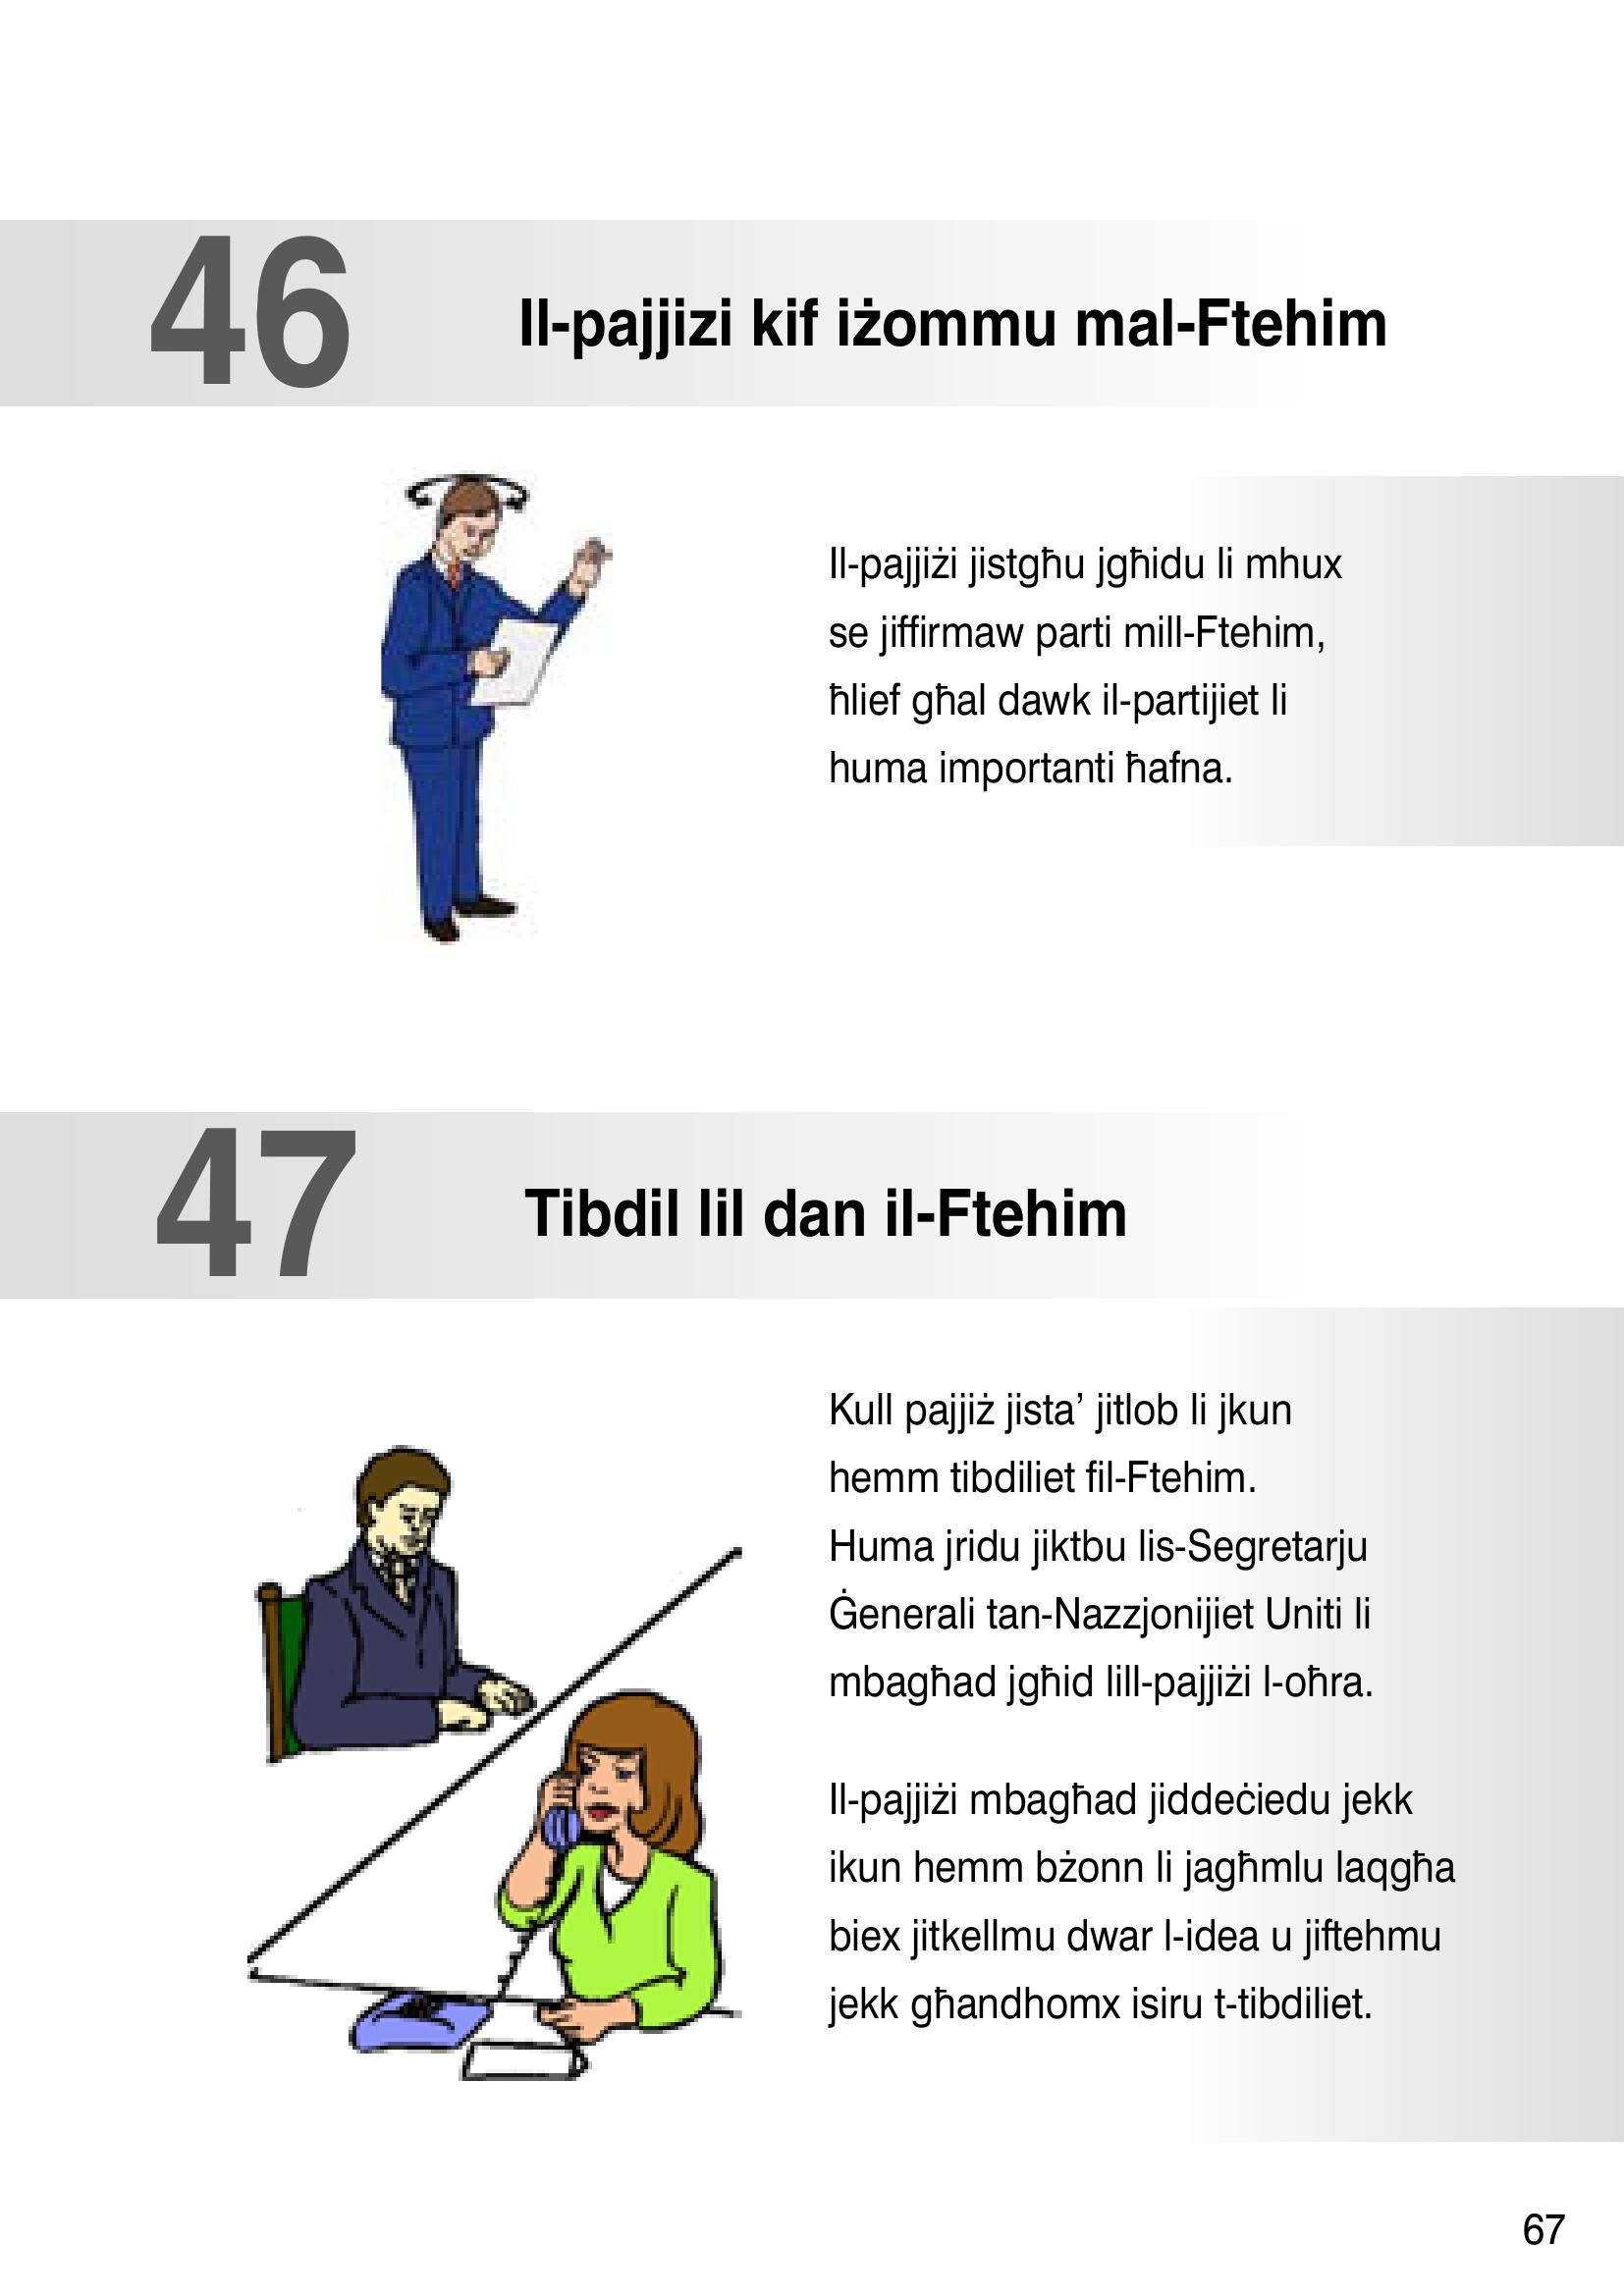text: (801, 1361, 1489, 2048), (130, 216, 1425, 409), (784, 506, 1385, 824), (120, 1114, 1135, 1300)
